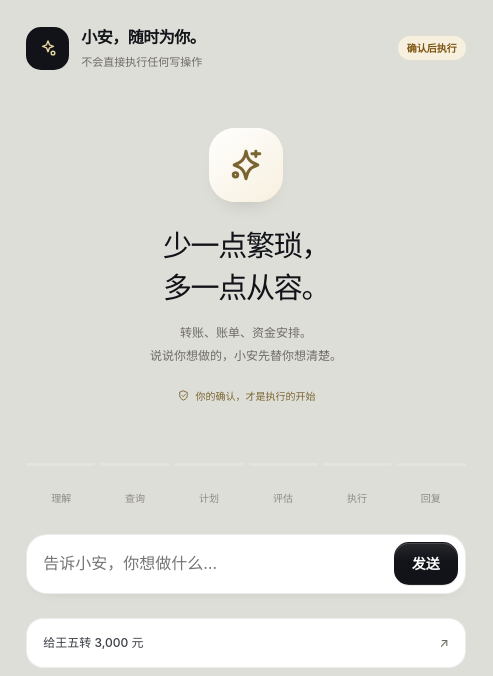
Test: 小安 · 澄清 › 无匹配候选时提示手动填写
Type "给王武转 3000" into the field named "告诉小安你的需求". click: (212, 564)
box: x1=34 y1=542 x2=389 y2=586
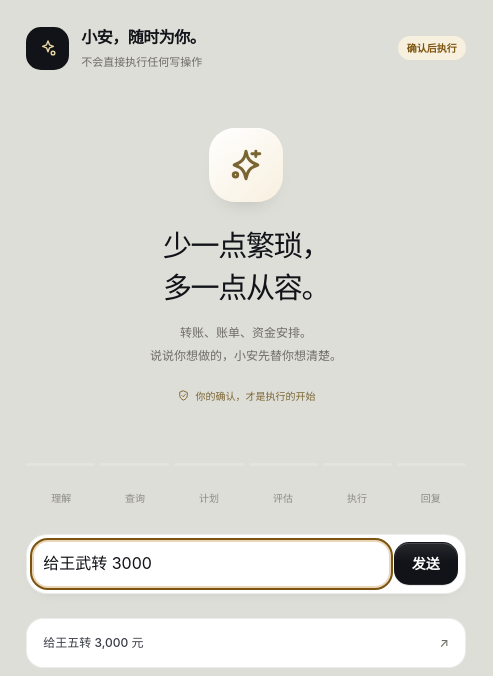
Click the button "发送". click: (426, 564)
box: x1=394 y1=542 x2=458 y2=585
(page scrolled)
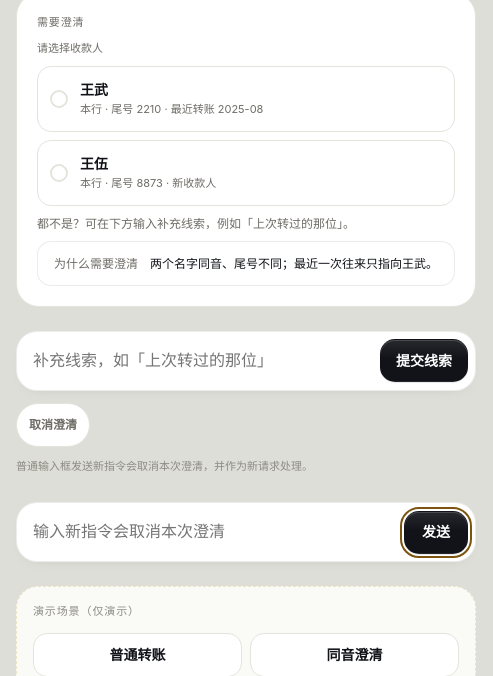
Now the text "需要澄清" is shown, box x1=37 y1=15 x2=84 y2=29
Type "随便写点" into the field labelled "补充线索". click: (200, 361)
box: x1=24 y1=339 x2=375 y2=383
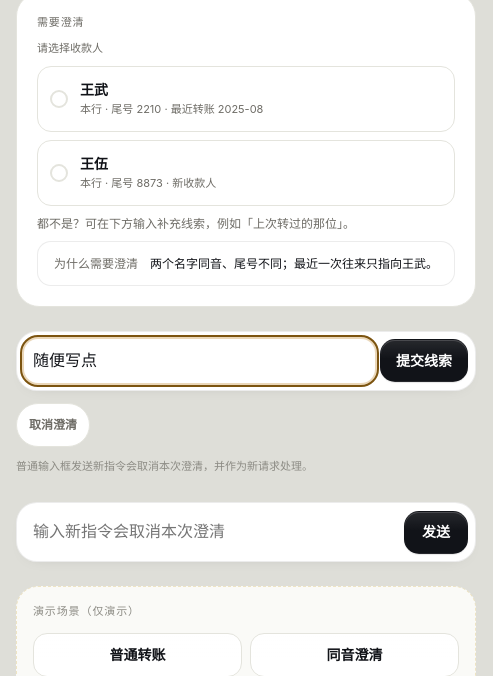
Click the button "提交线索". click: (424, 361)
box: x1=380 y1=339 x2=468 y2=382
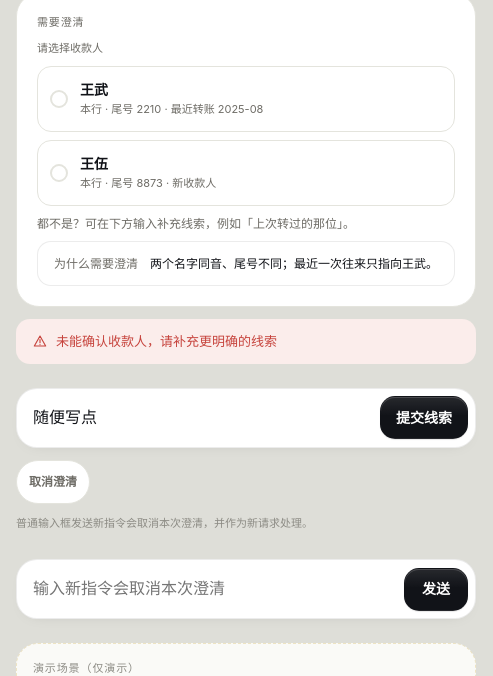
Now the text "未能确认收款人，请补充更明确的线索" is shown, box x1=56 y1=333 x2=277 y2=349
